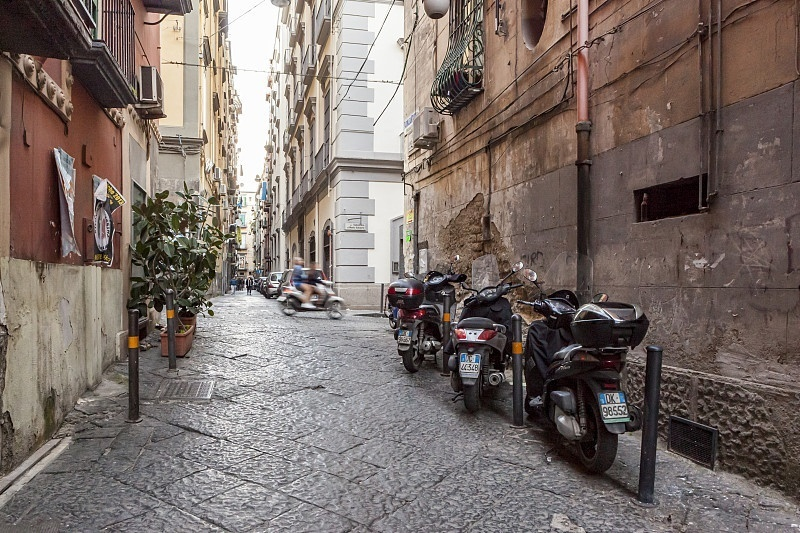non-vehicle: (520, 280, 638, 469), (450, 275, 523, 406), (397, 266, 464, 369), (276, 272, 346, 318)
